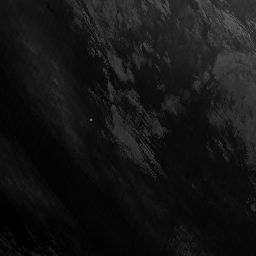Target: (87, 117, 93, 122)
